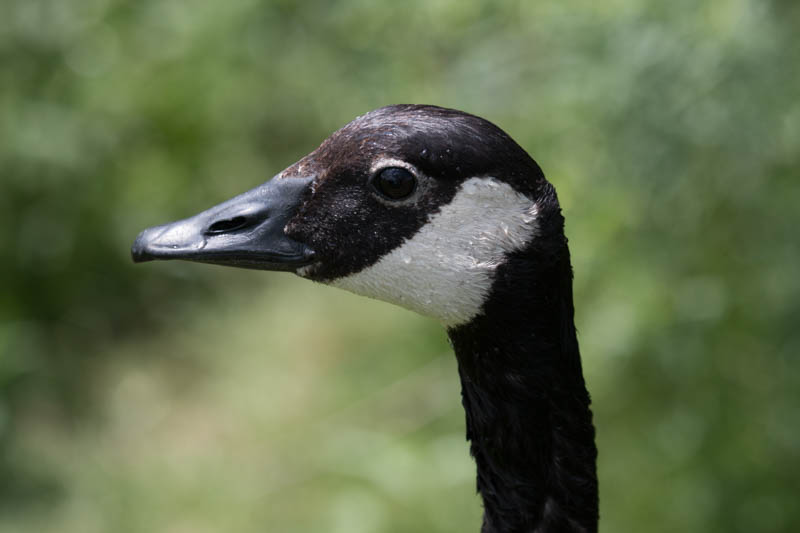goose-head: (131, 106, 575, 329)
